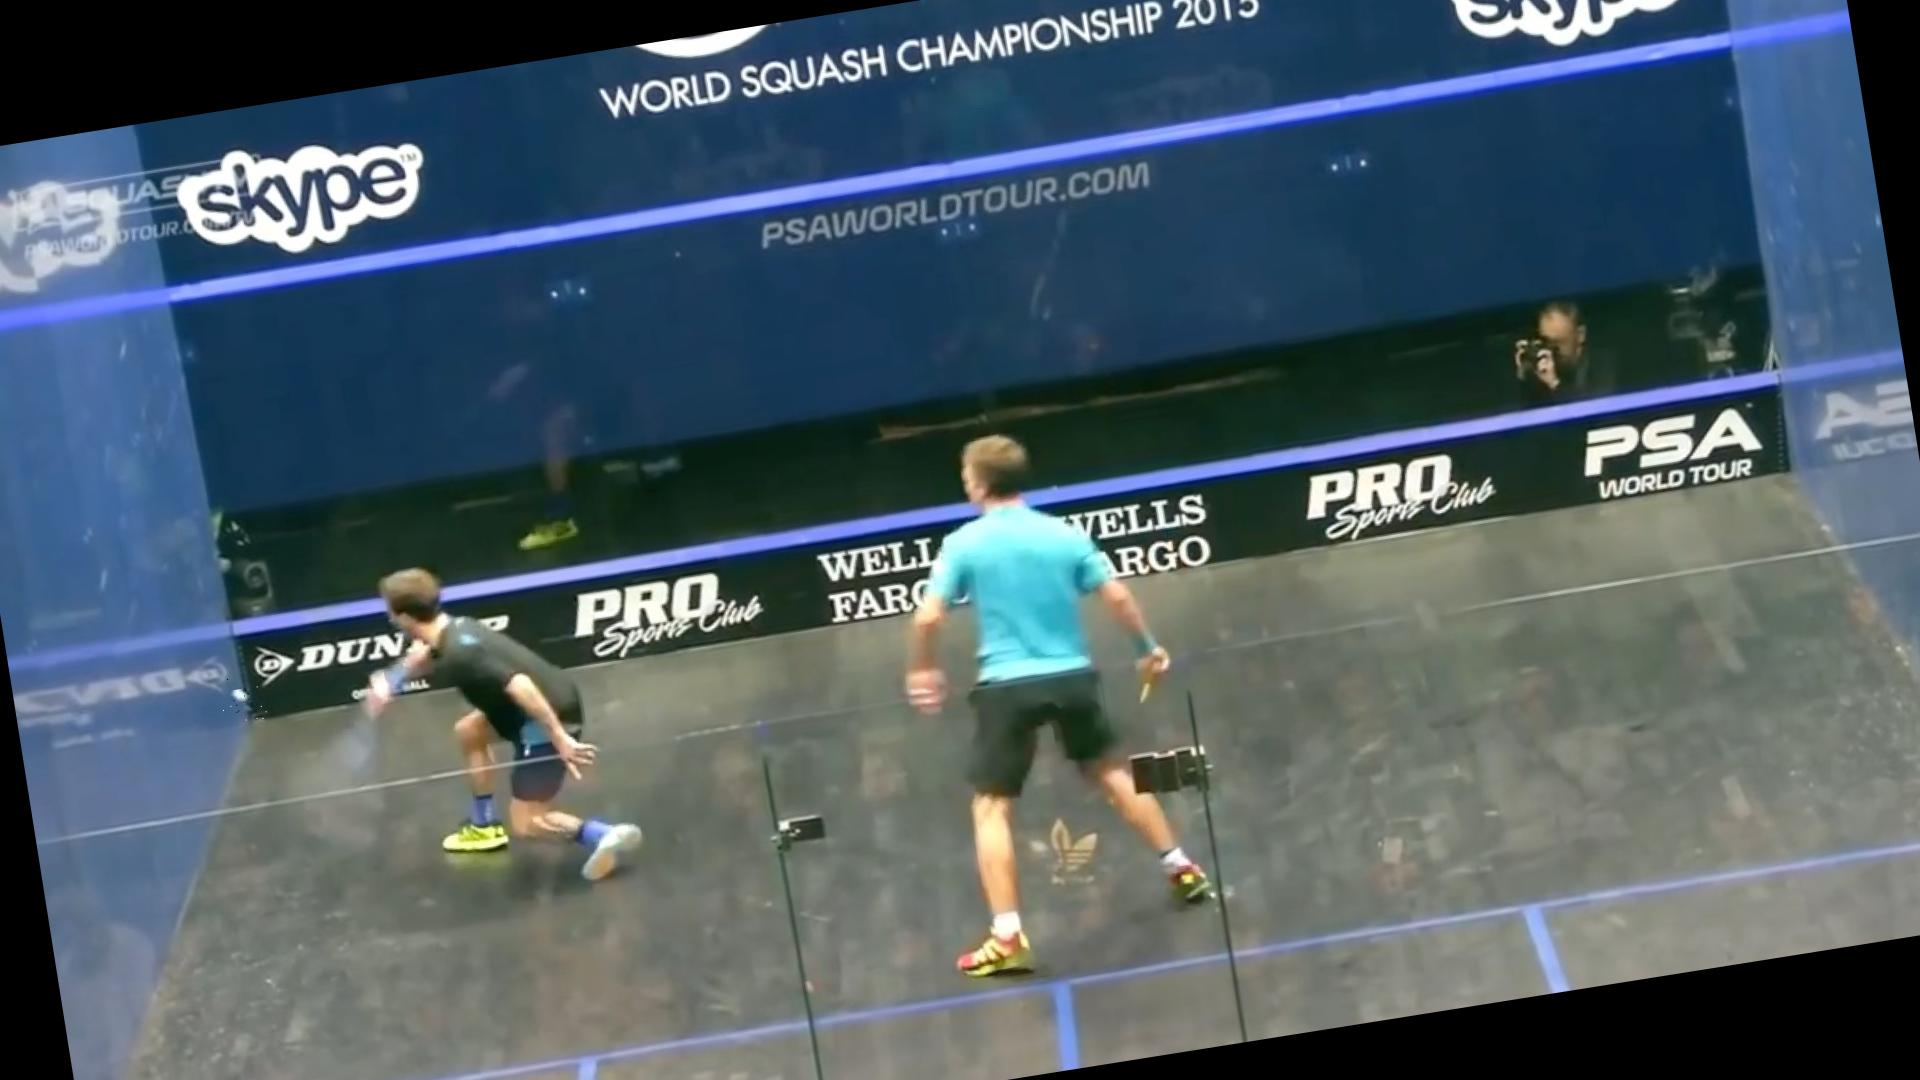Squash-Ball: (213, 667, 270, 728)
